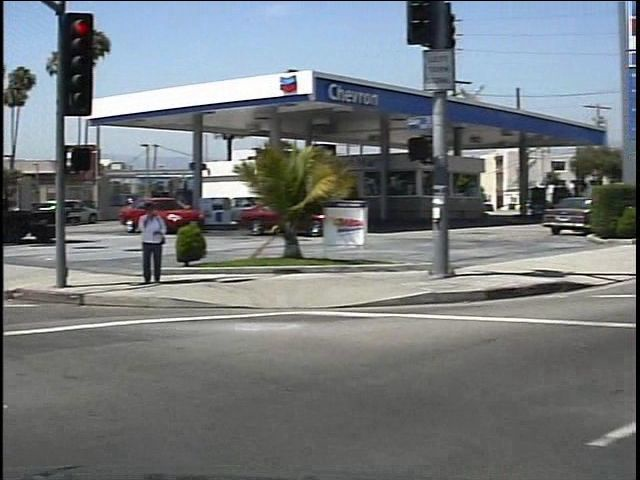person: (127, 199, 161, 291)
